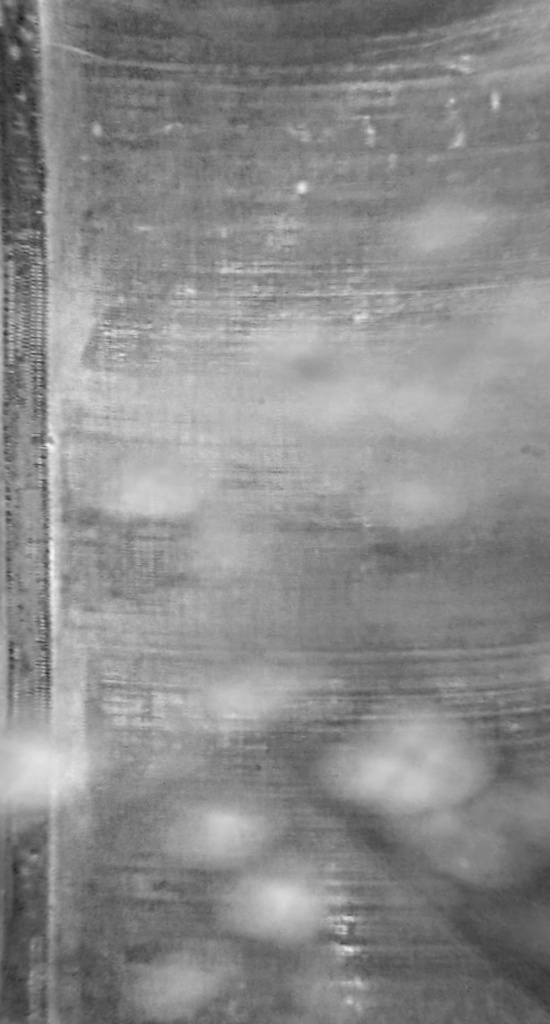splice: (1, 1, 63, 1024)
